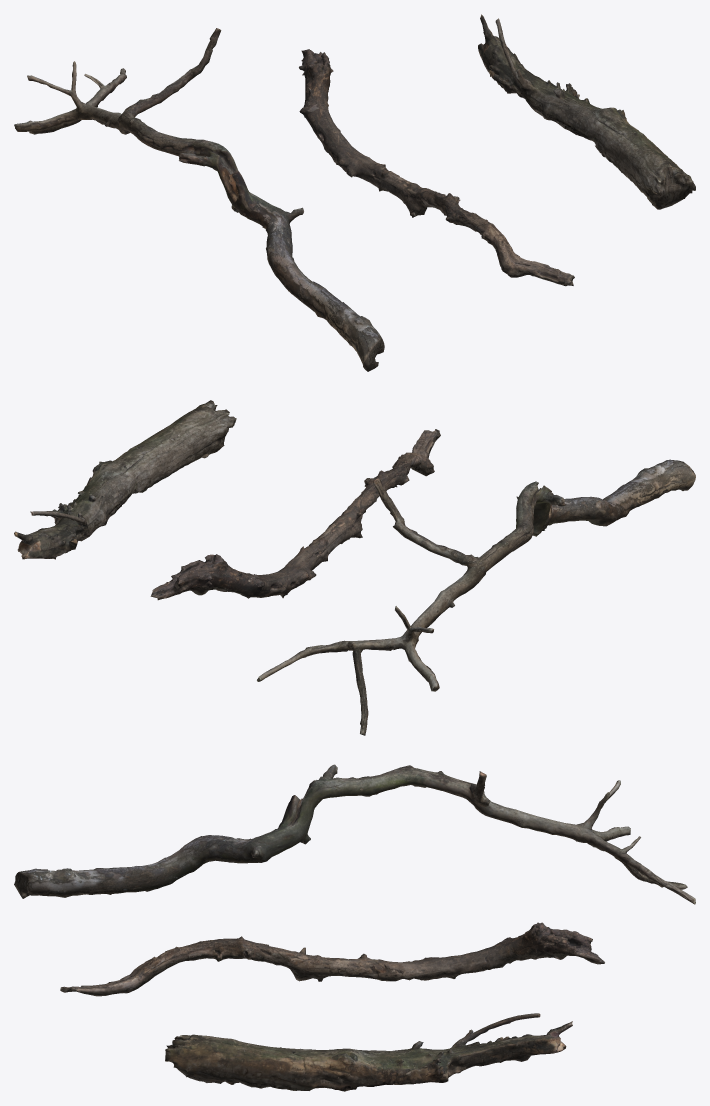
The model's file is dry_branches_medium_01.glb.
3 views of the same model, one above another, from view 1: azimuth 30°, elevation 25°; view 2: azimuth 150°, elevation 25°; view 3: azimuth 270°, elevation 25° (orthographic). The views are drawn at different scales.
Parts seen in each view (by area): view 1: dry_branches_medium_01_a; view 2: dry_branches_medium_01_a; view 3: dry_branches_medium_01_a.
Part boxes in pixels (bbox=[...]): dry_branches_medium_01_a: bbox=[14, 14, 695, 371]; dry_branches_medium_01_a: bbox=[14, 400, 695, 735]; dry_branches_medium_01_a: bbox=[14, 764, 695, 1091].
Size of the model in its own units: 1.06 by 0.341 by 1.3.
Materials: 1 (1 with a texture image).
